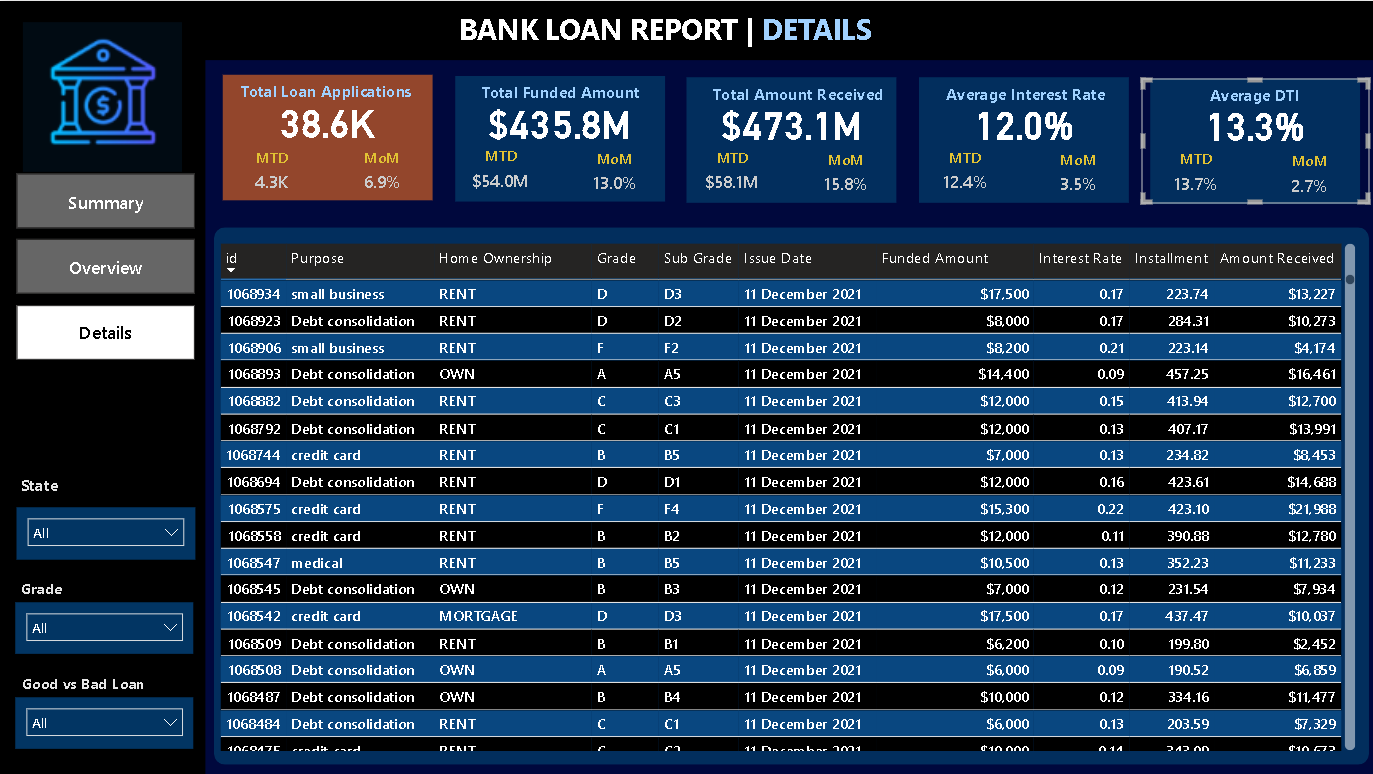

The dashboard page shown, as its layout file describes it:
{"tool":"powerbi","page":{"name":"Details","canvas":[1280,720],"ordinal":2},"visuals":[{"type":"shape","box":[0,0,1280.3,55],"z":0},{"type":"shape","box":[0,54.9,192,665.5],"z":1000},{"type":"textbox","box":[423.3,2.7,433.5,52.5],"z":2000},{"type":"shape","box":[208.1,68.1,195.2,117.1],"z":3000,"group":"g1"},{"type":"shape","box":[424.3,70,195.2,117.1],"z":3000,"group":"g2"},{"type":"shape","box":[639.8,71,195.2,117.1],"z":3000,"group":"g3"},{"type":"shape","box":[855.6,71,195.2,117.1],"z":3000,"group":"g4"},{"type":"shape","box":[1071.4,72.3,195.2,117.1],"z":3000,"group":"g5"},{"type":"shape","box":[200,210.5,1074.4,500],"z":3000},{"type":"group","id":"g1","title":"Group 1","box":[200,68.1,211.4,117.1],"z":4000},{"type":"card","fields":{"Values":["bank_loan_data.Total Loan Application"]},"box":[200,85.6,211.4,49.8],"z":4000,"group":"g1"},{"type":"card","fields":{"Values":["bank_loan_data.Total Funded Amount"]},"box":[416.2,87.5,211.4,49.8],"z":4000,"group":"g2"},{"type":"card","fields":{"Values":["bank_loan_data.Total Amount Received"]},"box":[631.7,88.5,211.4,49.8],"z":4000,"group":"g3"},{"type":"card","fields":{"Values":["bank_loan_data.Avg Int Rate"]},"box":[847.5,88.5,211.4,49.8],"z":4000,"group":"g4"},{"type":"card","fields":{"Values":["bank_loan_data.Avg DTI"]},"box":[1063.3,89.8,211.4,49.8],"z":4000,"group":"g5"},{"type":"textbox","box":[208.2,68.1,195.3,76.5],"z":5000,"group":"g1"},{"type":"group","id":"g2","title":"Group 1","box":[416.2,70,211.4,117.1],"z":5000},{"type":"textbox","box":[424.3,70,195.2,76.7],"z":5000,"group":"g2"},{"type":"textbox","box":[639.8,71,195.2,76.7],"z":5000,"group":"g3"},{"type":"textbox","box":[855.6,71,195.2,76.7],"z":5000,"group":"g4"},{"type":"textbox","box":[1071.4,72.3,195.2,76.7],"z":5000,"group":"g5"},{"type":"group","id":"g3","title":"Group 1","box":[631.7,71,211.6,116],"z":6000},{"type":"card","title":"MTD","fields":{"Values":["bank_loan_data.MTD Loan Applications"]},"box":[224.2,135.4,59.2,49.8],"z":6000,"group":"g1"},{"type":"card","title":"MTD","fields":{"Values":["bank_loan_data.MTD Funded Amount"]},"box":[433.9,135.5,66.9,50.5],"z":6000,"group":"g2"},{"type":"card","title":"MTD","fields":{"Values":["bank_loan_data.MTD Amount Received"]},"box":[649.4,136.5,66.9,50.5],"z":6000,"group":"g3"},{"type":"card","title":"MTD","fields":{"Values":["bank_loan_data.MTD Int Rate"]},"box":[865.2,136.5,66.9,50.5],"z":6000,"group":"g4"},{"type":"card","title":"MTD","fields":{"Values":["bank_loan_data.MTD Avg DTI"]},"box":[1081,137.8,66.9,50.5],"z":6000,"group":"g5"},{"type":"group","id":"g4","title":"Group 1","box":[847.5,71,211.6,116],"z":7000},{"type":"card","title":"MoM","fields":{"Values":["bank_loan_data.MoM Loan Applications"]},"box":[326.5,135.4,59.2,49.8],"z":7000,"group":"g1"},{"type":"card","title":"MoM","fields":{"Values":["bank_loan_data.MoM Funded Amount"]},"box":[542.7,137.3,59.2,49.8],"z":7000,"group":"g2"},{"type":"card","title":"MoM","fields":{"Values":["bank_loan_data.MoM Amount Received"]},"box":[758.2,138.3,59.2,49.8],"z":7000,"group":"g3"},{"type":"card","title":"MoM","fields":{"Values":["bank_loan_data.MoM Int Rate"]},"box":[974,138.3,59.2,49.8],"z":7000,"group":"g4"},{"type":"card","title":"MoM","fields":{"Values":["bank_loan_data.MoM Avg DTI"]},"box":[1189.8,139.6,59.2,49.8],"z":7000,"group":"g5"},{"type":"group","id":"g5","title":"Group 1","box":[1063.3,72.3,211.6,116],"z":8000},{"type":"slicer","fields":{"Values":["bank_loan_data.address_state"]},"box":[16.1,470.8,166.3,48.8],"z":9000},{"type":"textbox","box":[15.1,434.9,82.4,51.8],"z":10000},{"type":"slicer","fields":{"Values":["bank_loan_data.grade"]},"box":[15.1,559.6,165.9,48.2],"z":11000},{"type":"textbox","box":[15.1,532.6,82.4,51.8],"z":12000},{"type":"slicer","fields":{"Values":["bank_loan_data.Good vs Bad Loan"]},"box":[15.1,647.9,165.9,48.2],"z":13000},{"type":"textbox","box":[16.1,620.8,139.5,52.3],"z":14000},{"type":"tableEx","fields":{"Values":["bank_loan_data.id","bank_loan_data.purpose","bank_loan_data.home_ownership","bank_loan_data.grade","bank_loan_data.sub_grade","bank_loan_data.issue_date","bank_loan_data.Total Funded Amount","Sum(bank_loan_data.int_rate)","Sum(bank_loan_data.installment)","bank_loan_data.Total Amount Received"]},"box":[200,220.9,1066.3,481.4],"z":17000},{"type":"image","box":[17.4,9.3,158.1,159.3],"z":18000},{"type":"pageNavigator","box":[16.3,160.5,166.3,174.4],"z":19000}]}

Visuals, with their boxes in screenshot pixels (x1, y1, x2, y2), scaled from the page's 1280x720 canvas onto the 1373x774 screenshot:
shape: bbox=[0, 0, 1372, 59]
shape: bbox=[0, 59, 206, 773]
textbox: bbox=[454, 3, 919, 59]
shape: bbox=[223, 73, 433, 199]
shape: bbox=[455, 75, 665, 201]
shape: bbox=[686, 76, 896, 202]
shape: bbox=[918, 76, 1127, 202]
shape: bbox=[1149, 78, 1359, 204]
shape: bbox=[215, 226, 1367, 764]
"Group 1" group: bbox=[215, 73, 441, 199]
card - bank_loan_data.Total Loan Application: bbox=[215, 92, 441, 146]
card - bank_loan_data.Total Funded Amount: bbox=[446, 94, 673, 148]
card - bank_loan_data.Total Amount Received: bbox=[678, 95, 904, 149]
card - bank_loan_data.Avg Int Rate: bbox=[909, 95, 1136, 149]
card - bank_loan_data.Avg DTI: bbox=[1141, 97, 1367, 150]
textbox: bbox=[223, 73, 433, 155]
"Group 1" group: bbox=[446, 75, 673, 201]
textbox: bbox=[455, 75, 665, 158]
textbox: bbox=[686, 76, 896, 159]
textbox: bbox=[918, 76, 1127, 159]
textbox: bbox=[1149, 78, 1359, 160]
"Group 1" group: bbox=[678, 76, 905, 201]
"MTD" card: bbox=[240, 146, 304, 199]
"MTD" card: bbox=[465, 146, 537, 200]
"MTD" card: bbox=[697, 147, 768, 201]
"MTD" card: bbox=[928, 147, 1000, 201]
"MTD" card: bbox=[1160, 148, 1231, 202]
"Group 1" group: bbox=[909, 76, 1136, 201]
"MoM" card: bbox=[350, 146, 414, 199]
"MoM" card: bbox=[582, 148, 646, 201]
"MoM" card: bbox=[813, 149, 877, 202]
"MoM" card: bbox=[1045, 149, 1108, 202]
"MoM" card: bbox=[1276, 150, 1340, 204]
"Group 1" group: bbox=[1141, 78, 1368, 202]
slicer - bank_loan_data.address_state: bbox=[17, 506, 196, 559]
textbox: bbox=[16, 468, 105, 523]
slicer - bank_loan_data.grade: bbox=[16, 602, 194, 653]
textbox: bbox=[16, 573, 105, 628]
slicer - bank_loan_data.Good vs Bad Loan: bbox=[16, 696, 194, 748]
textbox: bbox=[17, 667, 167, 724]
tableEx - bank_loan_data.id x bank_loan_data.purpose: bbox=[215, 237, 1358, 755]
image: bbox=[19, 10, 188, 181]
pageNavigator: bbox=[17, 173, 196, 360]
